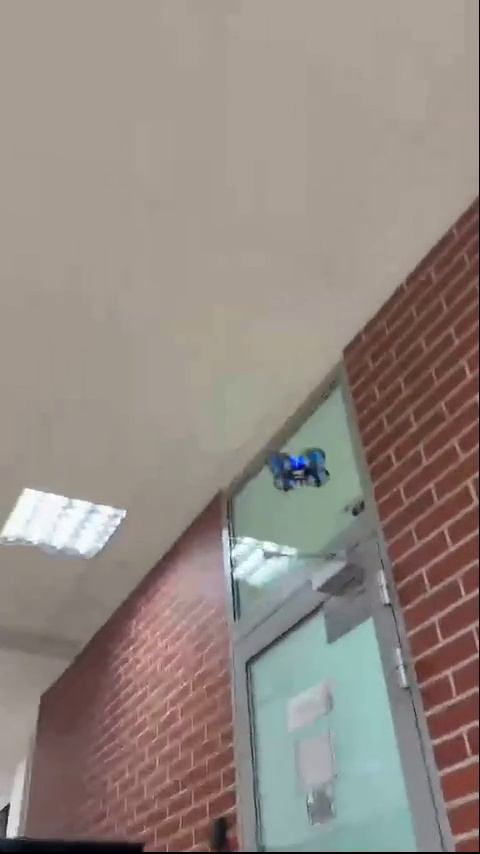drone: (265, 446, 334, 491)
